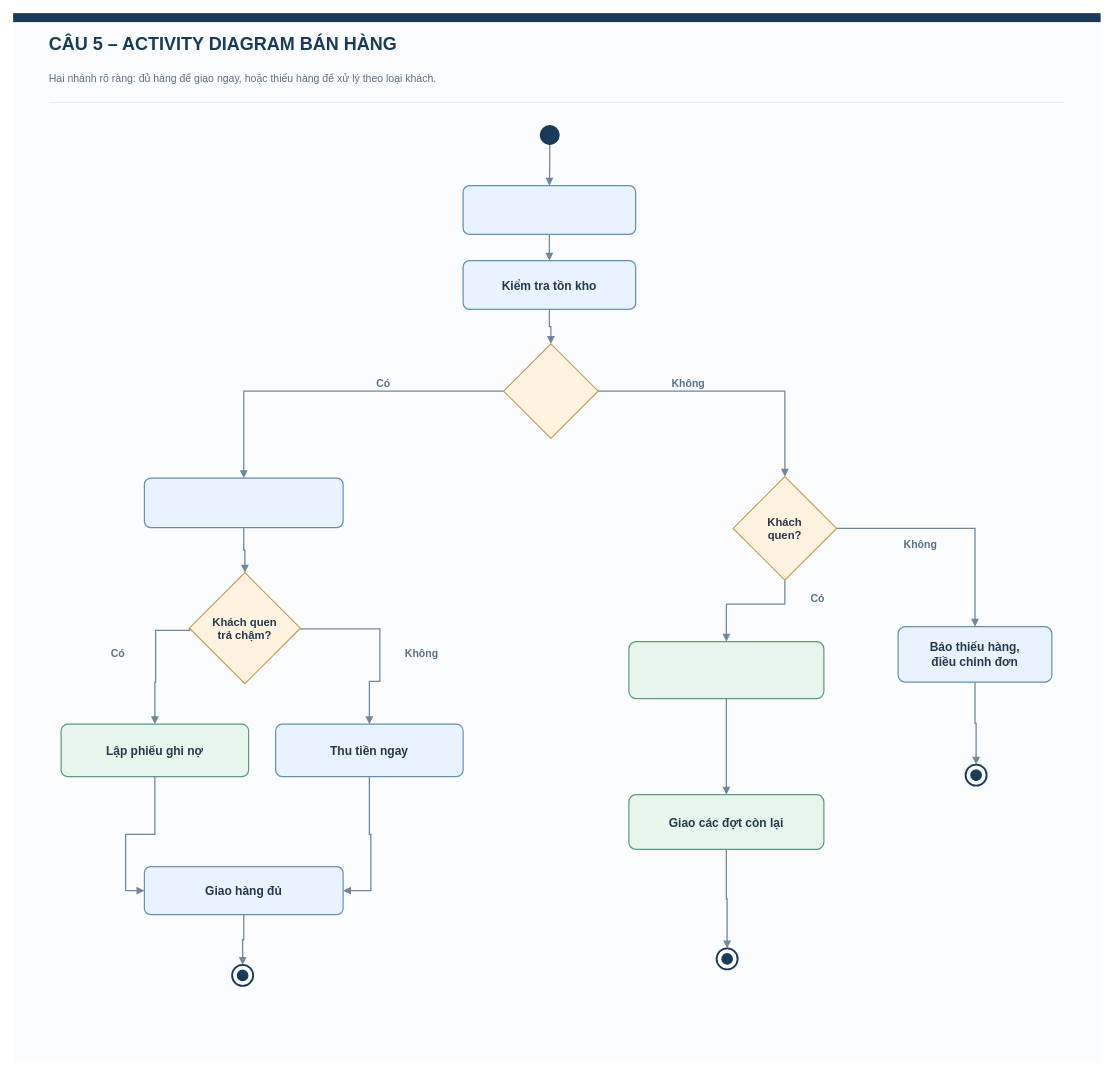
Image size: 1113x1076. Some labels were removed from this diagram. The shapes that lost their labels are listed below. From the top down, each one's centre as x and y in pixels, then its label:
At point 549,210: "Khách yêu cầu mua".
At point 550,391: "Đủ hàng?".
At point 243,502: "Lập hóa đơn".
At point 726,670: "Lập hóa đơn và phiếu hẹn".
